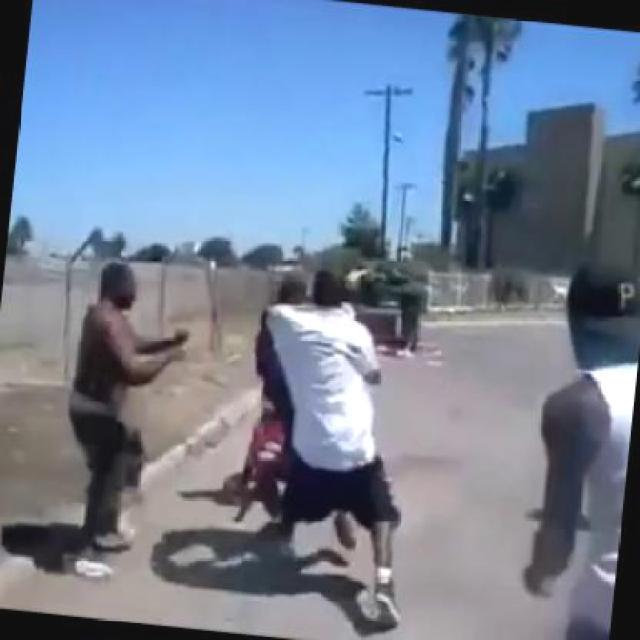fight: (223, 262, 434, 628)
non-fight: (50, 259, 196, 587)
